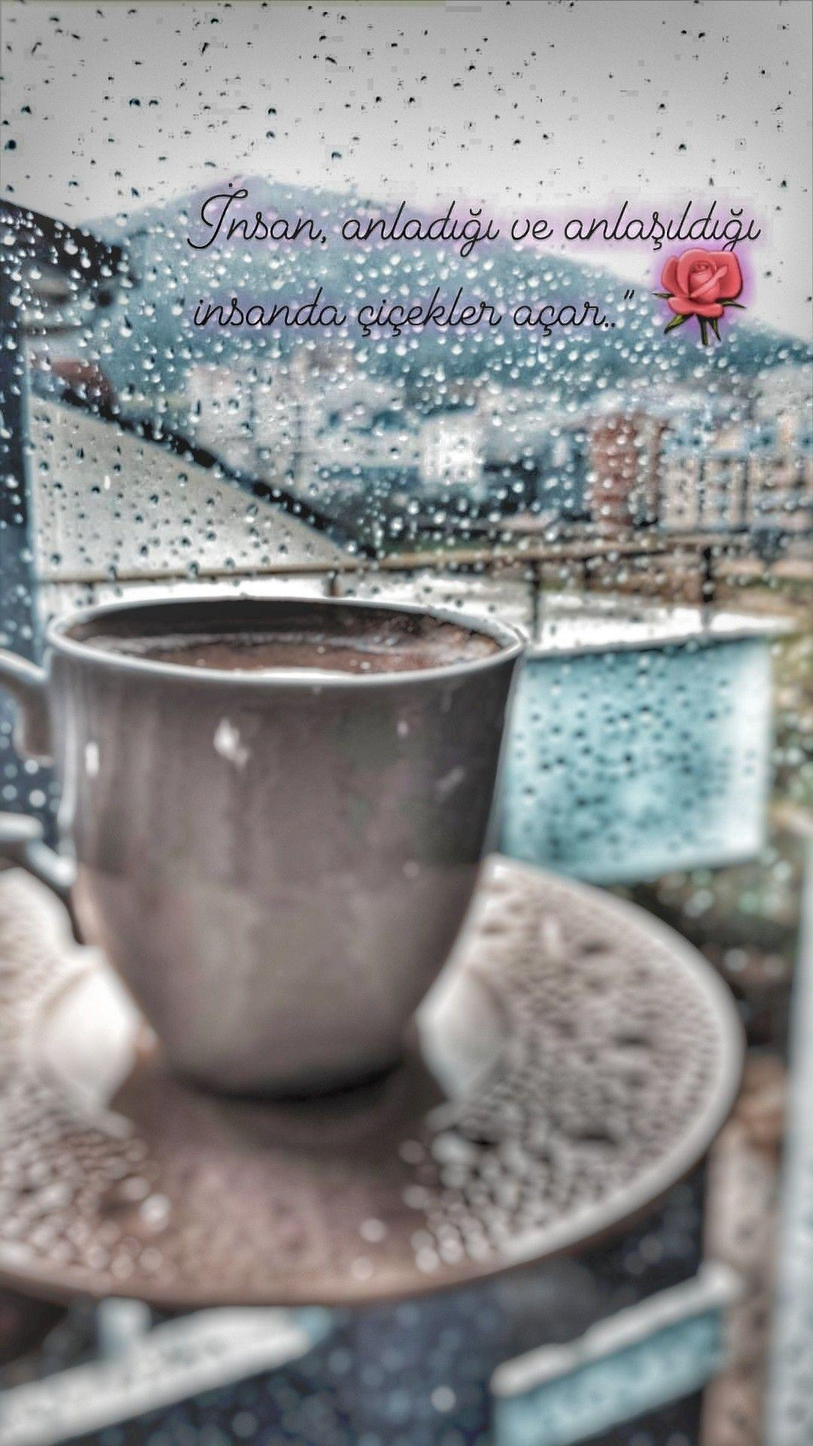cup-handle: (2, 593, 525, 1098)
